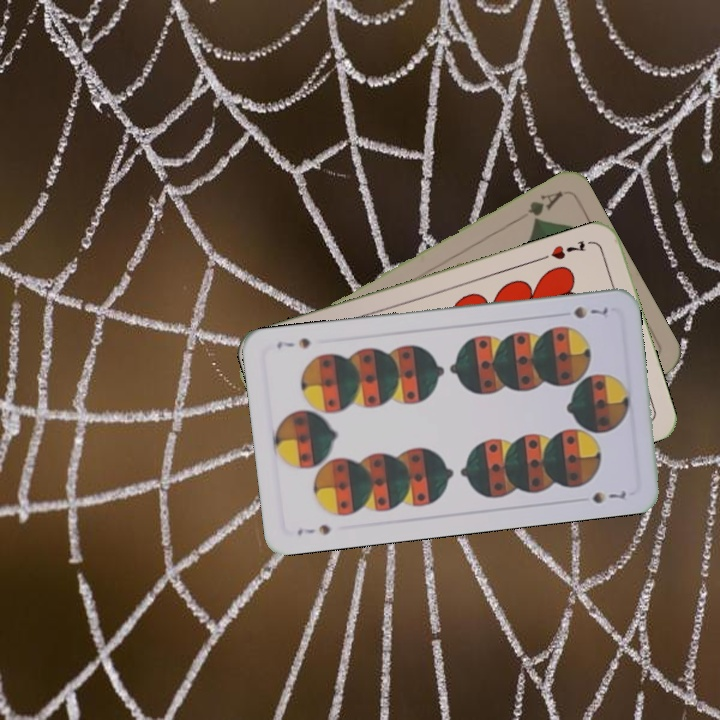GA: (524, 186, 566, 226)
H7: (547, 236, 589, 262)
S7: (569, 302, 611, 322), (293, 520, 334, 538)
